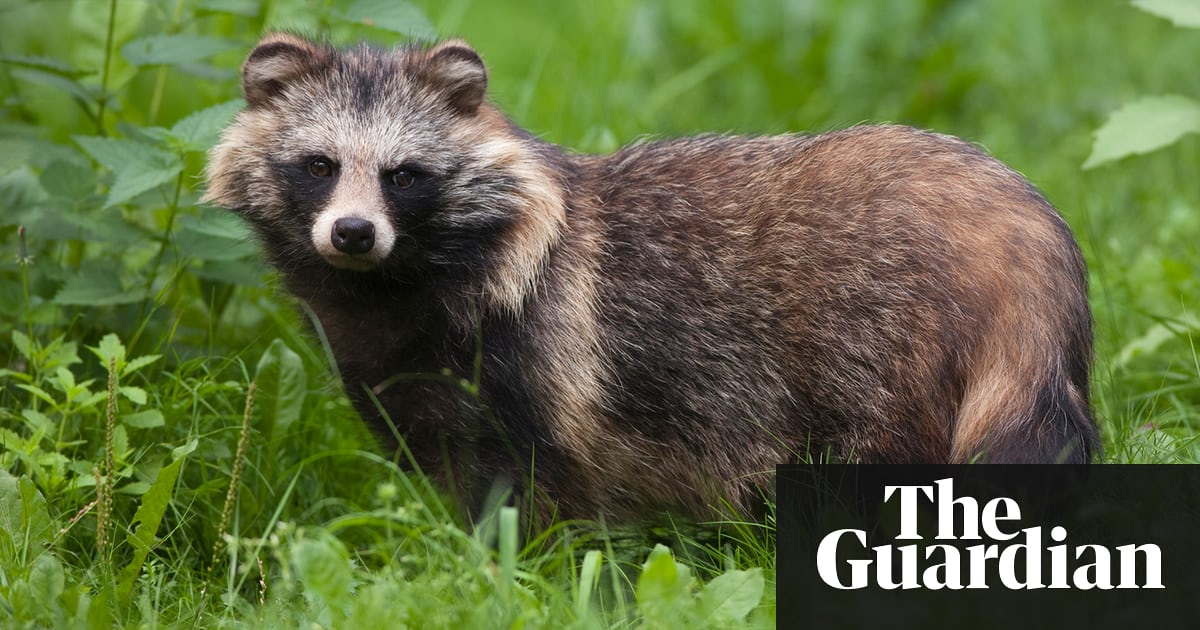raccoon: (204, 38, 1116, 464)
